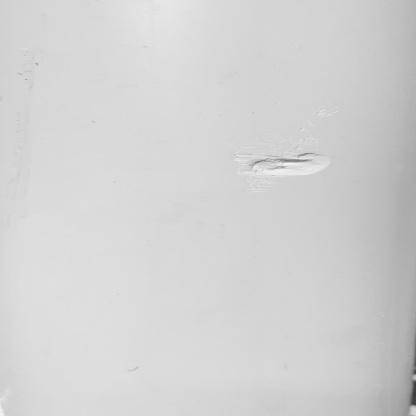sunshang: (242, 147, 328, 181)
